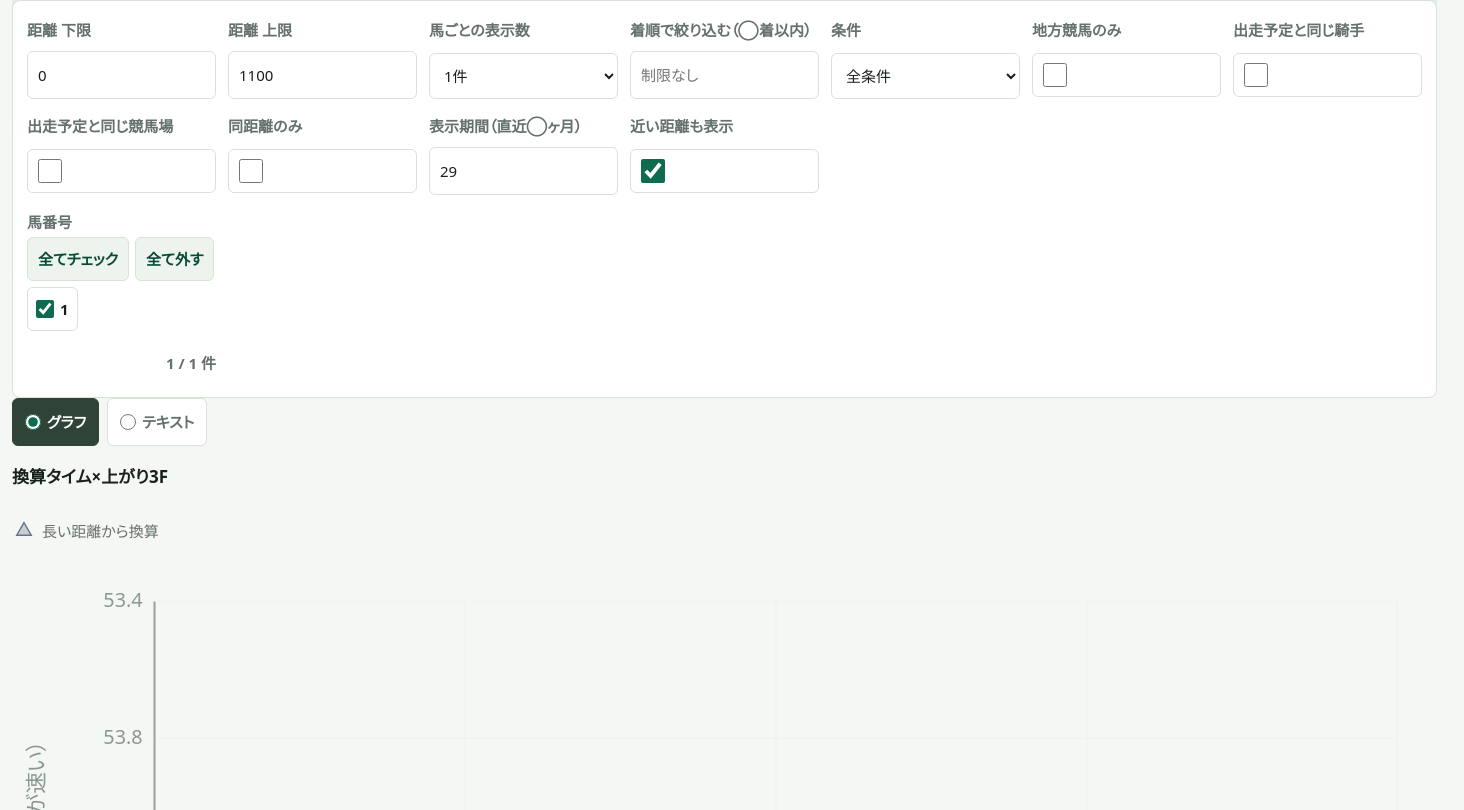
it: horse race results table › relaxes default nar filters so every non-debut runner with history is visible
This screenshot has width=1464, height=810.
Step 1. Click the radio button labelled "テキスト" → (128, 422), box [120, 414, 136, 430]
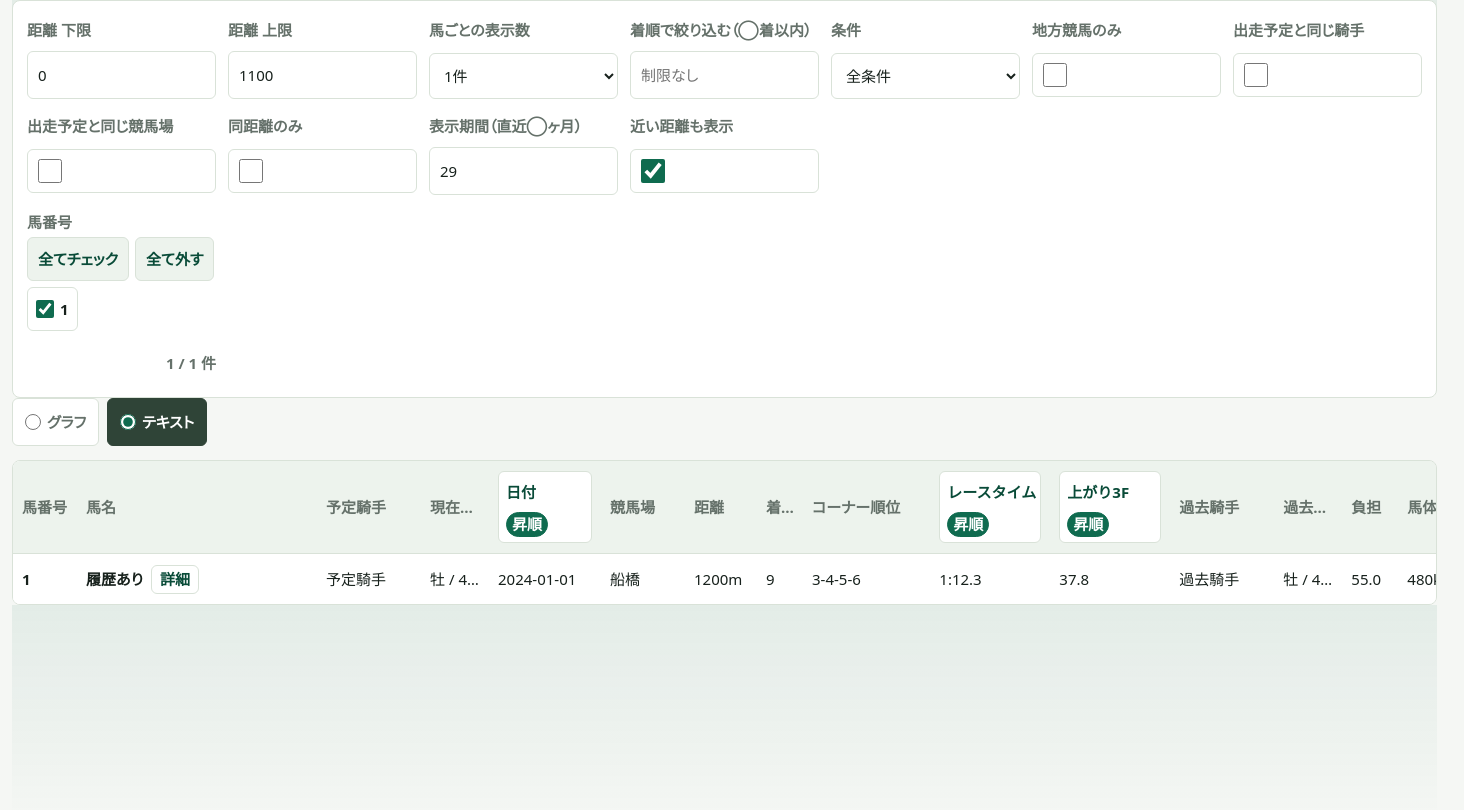
Expected: the number field labelled "表示期間（直近◯ヶ月）" holds "29", [429, 147, 618, 195]
Expected: the text "履歴あり" is shown, [86, 564, 143, 594]
